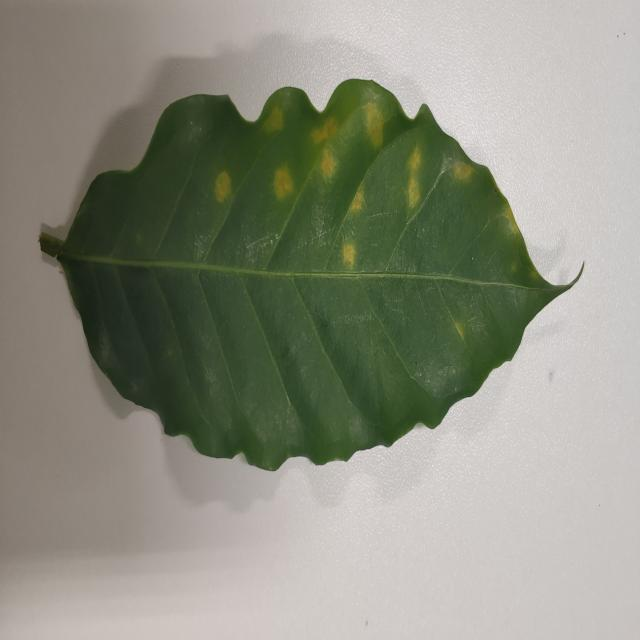Enfermedad-Roya: (38, 79, 579, 474)
